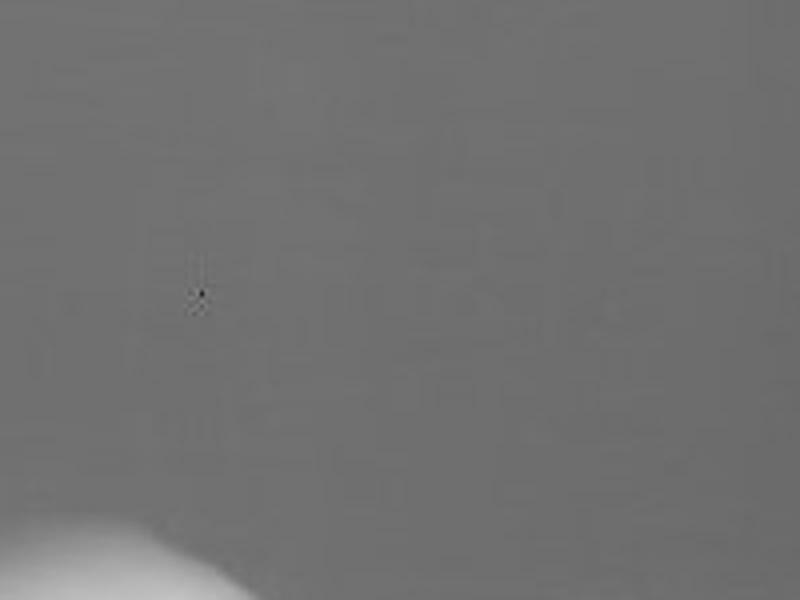defect: (198, 285, 209, 299)
